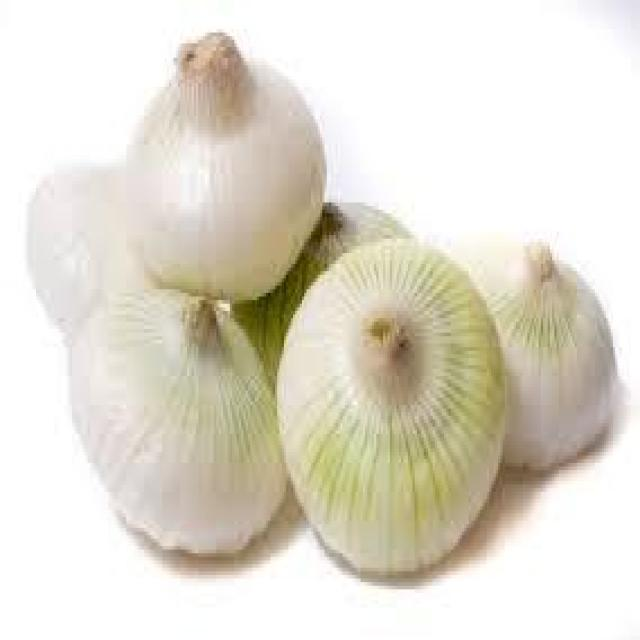Onion: (278, 228, 511, 575), (62, 266, 296, 562), (113, 22, 331, 300), (226, 173, 434, 387), (21, 156, 220, 347), (479, 239, 618, 470)
